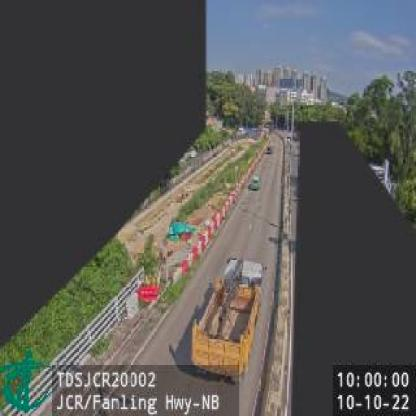Car: (252, 175, 262, 190)
Truck: (191, 254, 266, 387)
